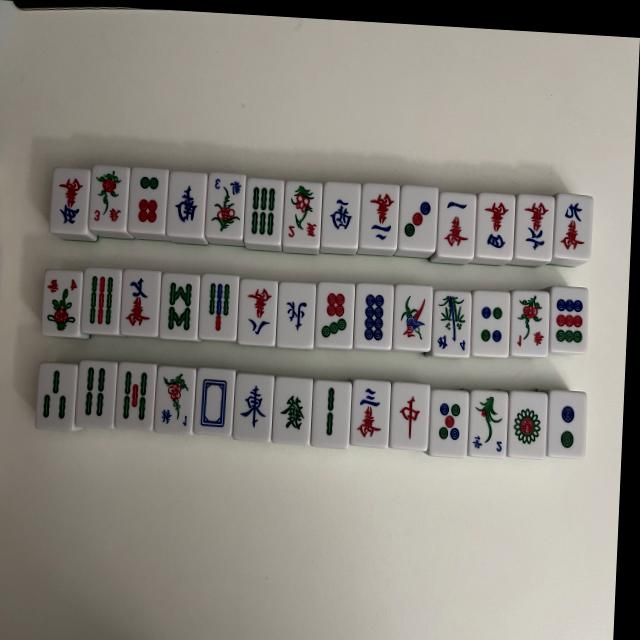bai: (193, 369, 235, 438)
east: (233, 374, 275, 444)
f1: (152, 366, 195, 436)
f2: (467, 390, 508, 457)
f3: (204, 172, 246, 239)
f4: (431, 289, 472, 357)
fa: (271, 377, 313, 446)
ff1: (508, 289, 551, 357)
ff2: (283, 181, 323, 247)
ff3: (87, 164, 130, 232)
ff4: (41, 268, 83, 337)
m1: (435, 191, 476, 258)
m2: (358, 184, 400, 250)
m3: (349, 379, 392, 447)
m4: (474, 192, 515, 260)
m5: (50, 167, 91, 235)
m6: (513, 193, 555, 261)
m7: (118, 269, 160, 337)
m8: (237, 278, 278, 348)
m9: (553, 194, 594, 261)
north: (277, 281, 317, 348)
s1: (391, 284, 433, 352)
s2: (310, 381, 351, 450)
s3: (36, 363, 78, 432)
s4: (74, 361, 118, 431)
s5: (114, 363, 156, 432)
s6: (244, 178, 284, 246)
s7: (199, 273, 240, 342)
s8: (158, 272, 200, 341)
s9: (80, 266, 122, 335)
south: (165, 170, 206, 238)
t1: (505, 391, 547, 460)
t2: (544, 391, 586, 459)
t3: (396, 185, 438, 252)
t4: (468, 290, 510, 358)
t5: (427, 389, 469, 458)
t6: (127, 166, 169, 234)
t7: (316, 282, 356, 349)
t8: (354, 283, 395, 351)
t9: (549, 287, 590, 356)
west: (321, 182, 362, 250)
zhong: (388, 381, 431, 450)
